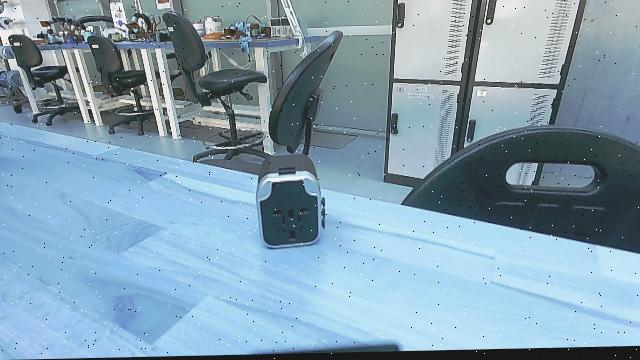adapter: (248, 150, 332, 264)
